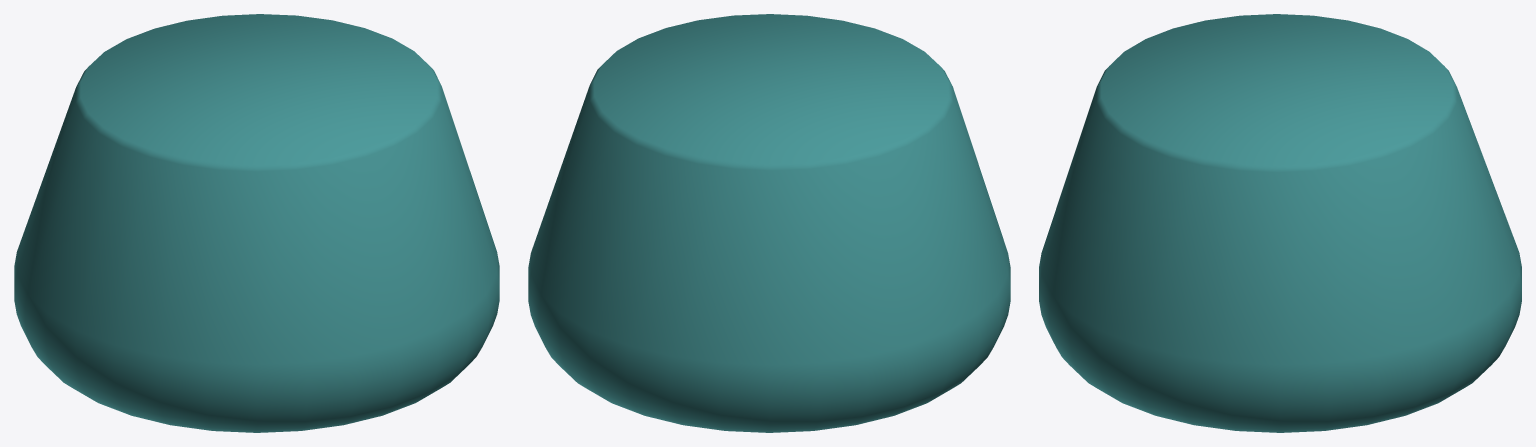
The model's file is SM_大号锥形瓶液体_005.fbx.
3 renders of one model, left to right at view 1: azimuth 30°, elevation 25°; view 2: azimuth 150°, elevation 25°; view 3: azimuth 270°, elevation 25°, orthographic.
Parts seen in each view (by area): view 1: SM_大号锥形瓶液体_005; view 2: SM_大号锥形瓶液体_005; view 3: SM_大号锥形瓶液体_005.
Boxes of the visible parts, bbox=[...] form: SM_大号锥形瓶液体_005: bbox=[14, 14, 499, 432]; SM_大号锥形瓶液体_005: bbox=[528, 14, 1010, 432]; SM_大号锥形瓶液体_005: bbox=[1039, 14, 1521, 432].
Size of the model in its own units: 0.2159 by 0.1273 by 0.2147.
